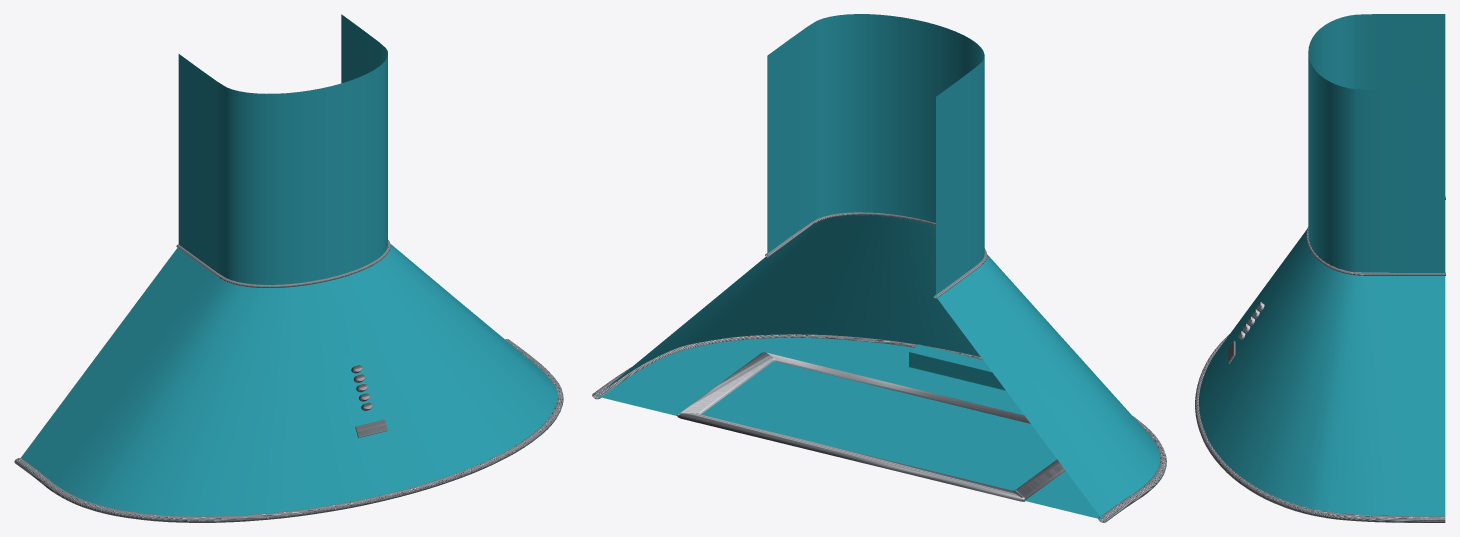
Rendered from Campana.obj.
The picture shows the model from 3 angles, left to right: view 1: azimuth 30°, elevation 25°; view 2: azimuth 150°, elevation 25°; view 3: azimuth 270°, elevation 25°; orthographic projection. The views are drawn at different scales.
Visible parts, largest first — view 1: polySurface149; view 2: polySurface149; view 3: polySurface149.
Boxes of the visible parts, x1=… form: polySurface149: x1=14, y1=14, x2=563, y2=522; polySurface149: x1=592, y1=14, x2=1166, y2=522; polySurface149: x1=1195, y1=14, x2=1445, y2=522.
Size of the model in its own units: 1.89 by 1.35 by 0.8599.
Materials: 3 (3 with a texture image).
